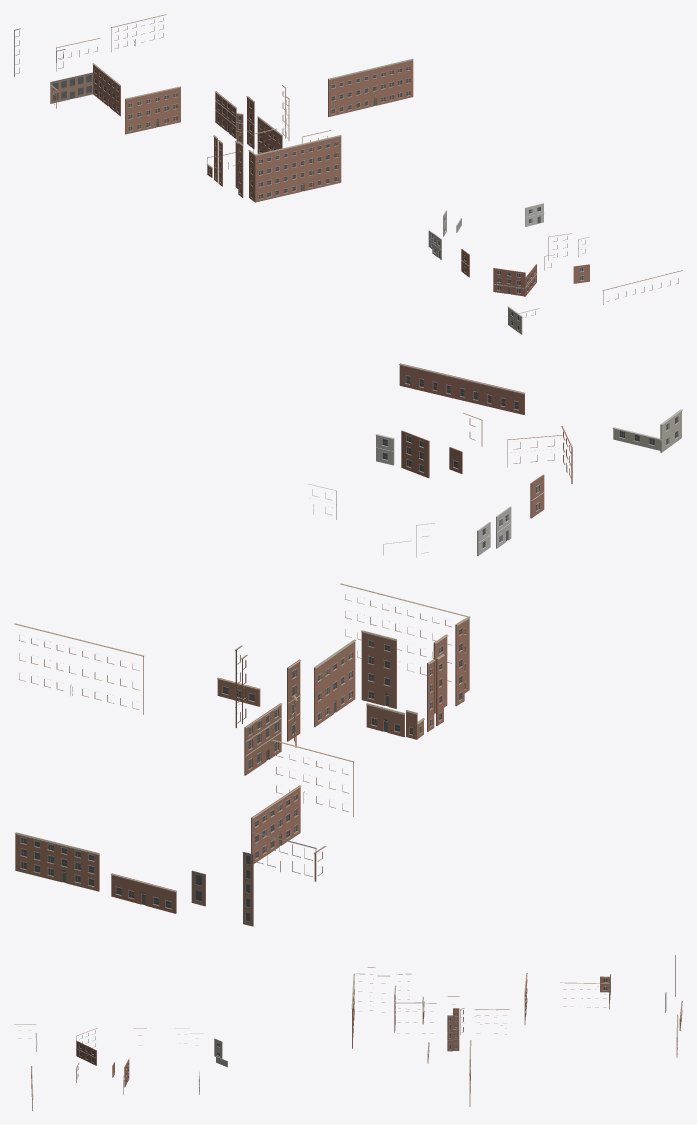
The picture shows the model from 3 angles, top to bottom: view 1: azimuth 30°, elevation 25°; view 2: azimuth 150°, elevation 25°; view 3: azimuth 270°, elevation 25°; orthographic projection. The views are drawn at different scales.
Visible parts, largest first — view 1: f:way/121538874, f:way/628604790, f:way/121541418, f:way/160958904, f:way/1203813629, f:way/161913149; view 2: f:way/121538874, f:way/628604790, f:way/160958904, f:way/121541418, f:way/206376767, f:way/1203813629, f:way/160958895, f:way/161913141, f:way/161909711, f:way/161913147; view 3: f:way/160958904, f:way/121538874, f:way/121541418, f:way/161913149.
Part boxes in pixels (x1,y1,x2,y2): f:way/121538874: [207, 116, 341, 202]; f:way/628604790: [111, 14, 413, 116]; f:way/121541418: [51, 63, 180, 134]; f:way/160958904: [215, 85, 289, 149]; f:way/1203813629: [14, 28, 93, 103]; f:way/161913149: [493, 264, 537, 296]; f:way/121538874: [314, 583, 470, 739]; f:way/628604790: [14, 623, 143, 891]; f:way/160958904: [235, 645, 301, 775]; f:way/121541418: [251, 739, 354, 881]; f:way/206376767: [399, 363, 524, 414]; f:way/1203813629: [191, 831, 316, 926]; f:way/160958895: [110, 873, 176, 913]; f:way/161913141: [401, 413, 482, 478]; f:way/161909711: [612, 409, 682, 452]; f:way/161913147: [477, 506, 511, 556]; f:way/160958904: [447, 996, 509, 1051]; f:way/121538874: [351, 967, 436, 1048]; f:way/121541418: [524, 973, 610, 1024]; f:way/161913149: [76, 1028, 97, 1065].
Bounding box in the file's own units: 101 × 18.25 × 240.
